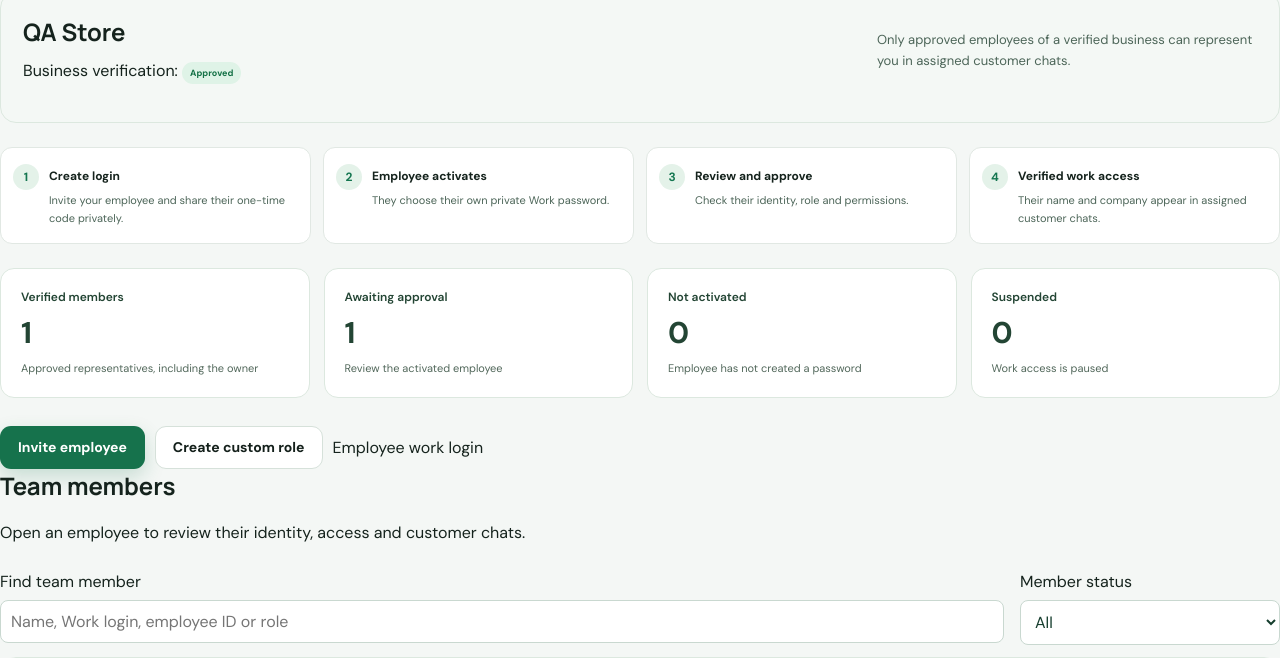
Test case: team UI boundaries › status cards filter the roster and toggle back without a write
Click the button with aria-label "Awaiting approval: 1": (396, 297) [324,268,633,398]
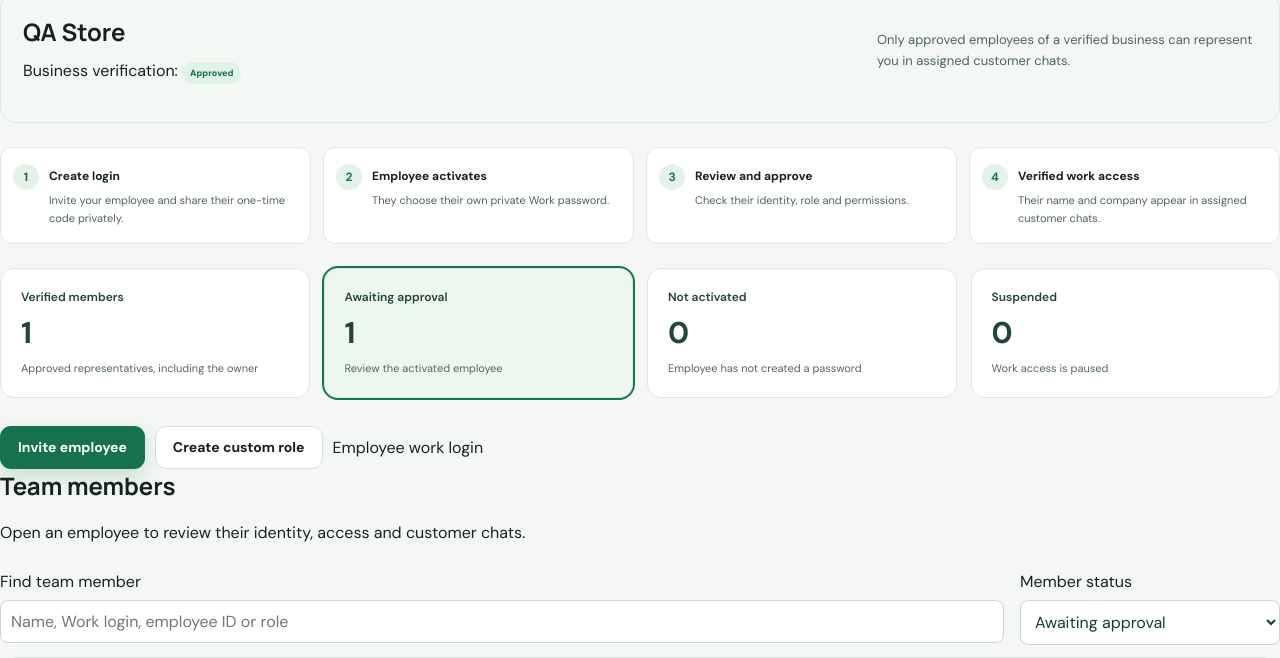
Check: the dropdown labelled "Member status" shows "Awaiting approval", box [1020,600,1279,645]
Click the button with aria-label "Awaiting approval: 1": (396, 297) [324,268,633,398]
(page scrolled)
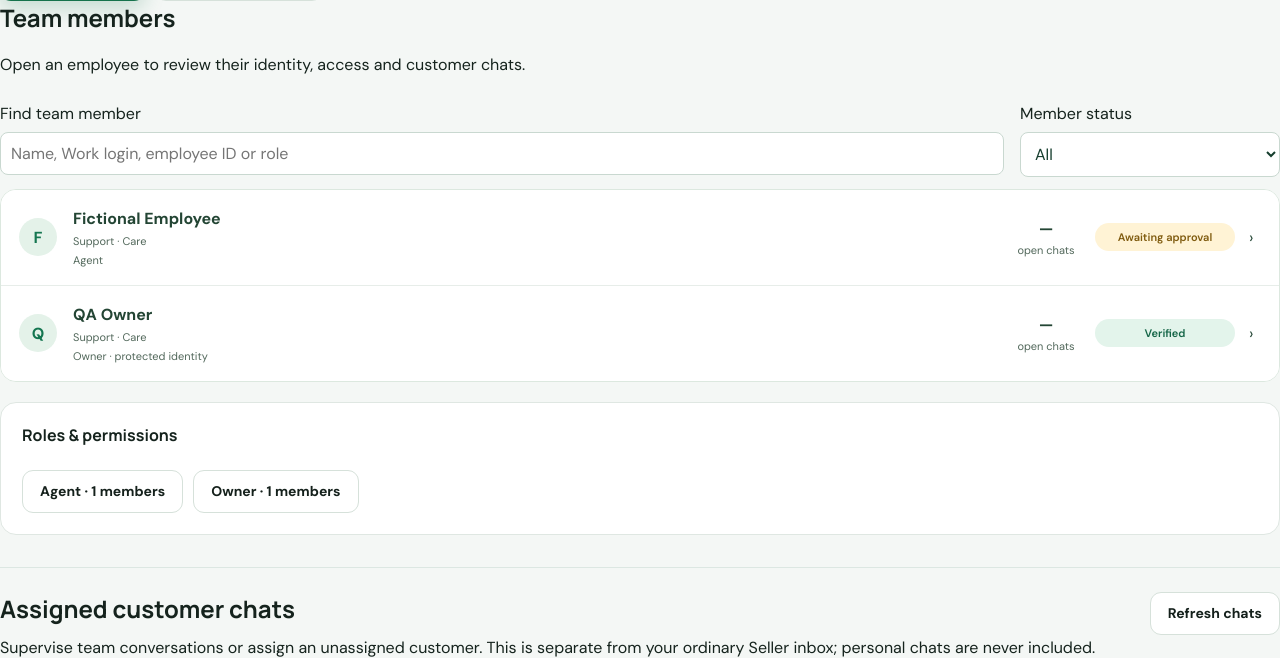
Check: the button with aria-label "Open team member QA Owner" is shown, box [1,286,1279,381]
